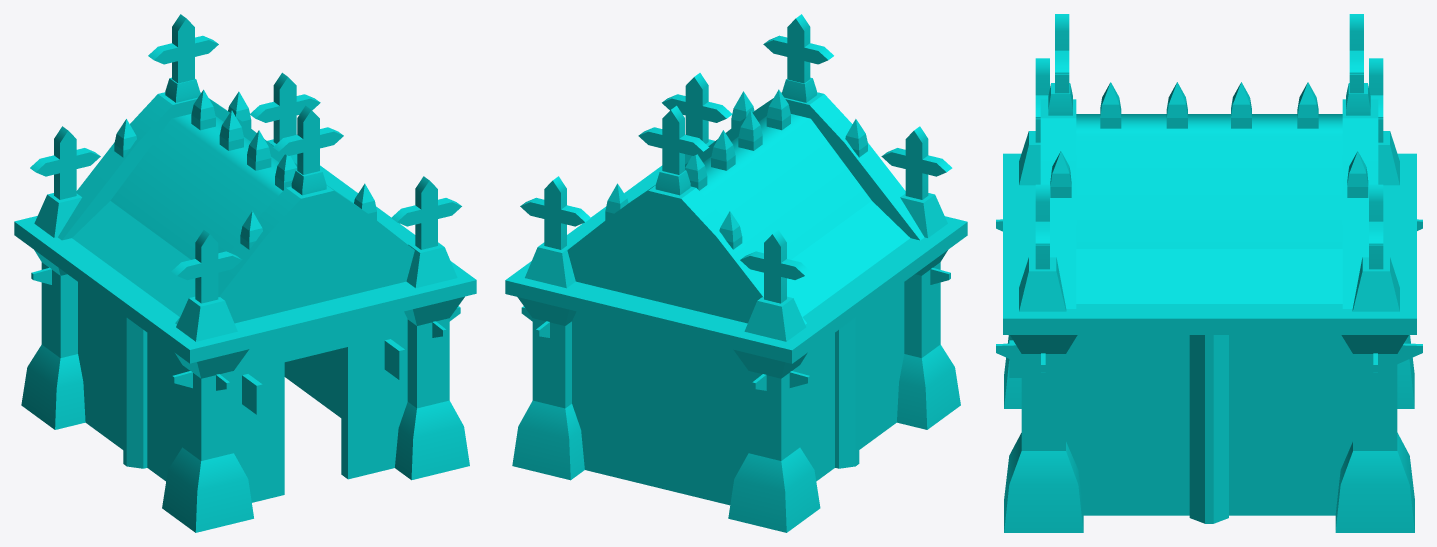
The model's file is SM_Prop_Crypt_01_Collision.fbx.
The picture shows the model from 3 angles, left to right: view 1: azimuth 30°, elevation 25°; view 2: azimuth 150°, elevation 25°; view 3: azimuth 270°, elevation 25°; orthographic projection. The views are drawn at different scales.
Parts seen in each view (by area): view 1: SM_Prop_Crypt_01_Collision; view 2: SM_Prop_Crypt_01_Collision; view 3: SM_Prop_Crypt_01_Collision.
Part boxes in pixels (x1,y1,x2,y2): SM_Prop_Crypt_01_Collision: (14, 14, 476, 532); SM_Prop_Crypt_01_Collision: (505, 14, 967, 532); SM_Prop_Crypt_01_Collision: (996, 14, 1422, 532).
Size of the model in its own units: 464 by 577 by 507.
